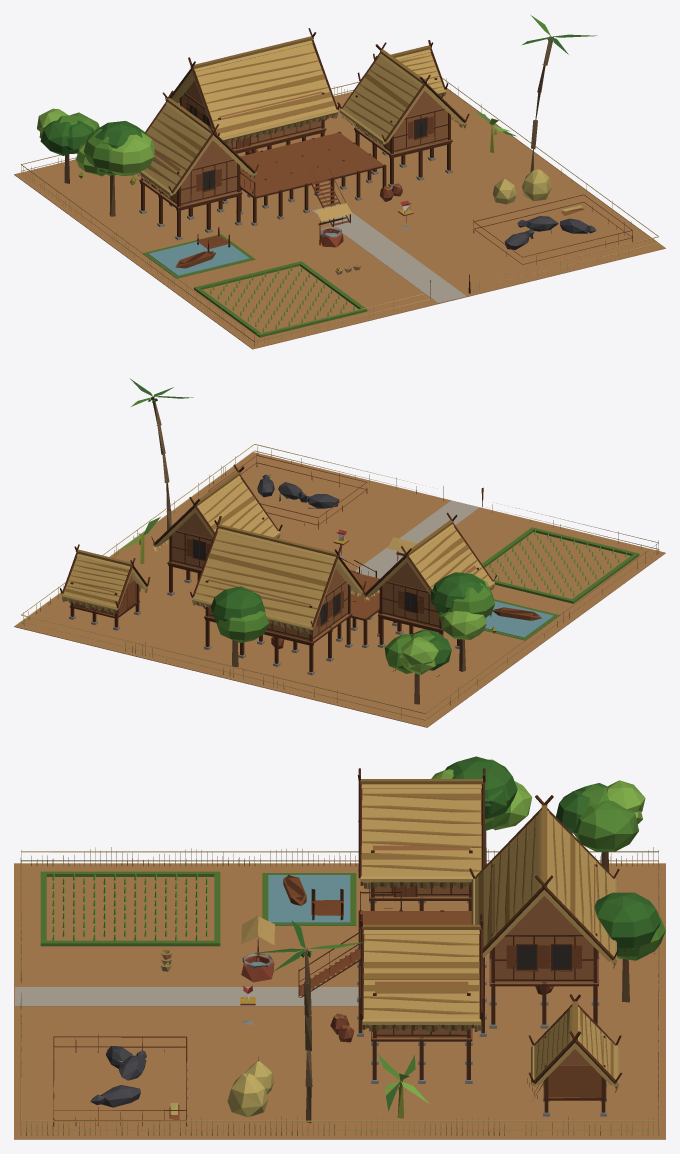
The model's file is home_5.glb.
3 views of the same model, one above another, from view 1: azimuth 30°, elevation 25°; view 2: azimuth 150°, elevation 25°; view 3: azimuth 270°, elevation 25° (orthographic). The views are drawn at different scales.
Parts seen in each view (by area): view 1: body, windows; view 2: body, windows; view 3: body, windows.
Boxes of the visible parts, x1,y1,x2,y2 form: body: [14, 15, 665, 349]; windows: [190, 105, 426, 190]; body: [14, 378, 665, 727]; windows: [193, 540, 416, 626]; body: [14, 756, 665, 1139]; windows: [429, 882, 570, 968].
Size of the model in its own units: 34.3 by 11.02 by 31.9.
